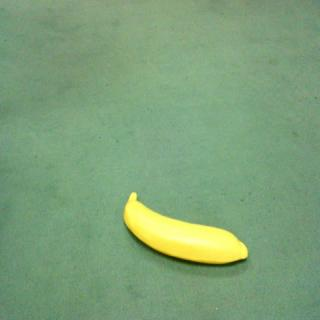banana: (118, 190, 256, 272)
